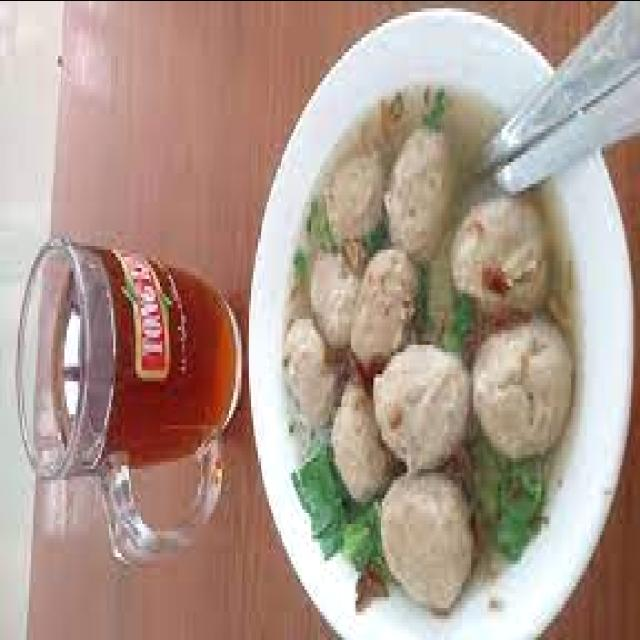bakso: (282, 91, 576, 611)
